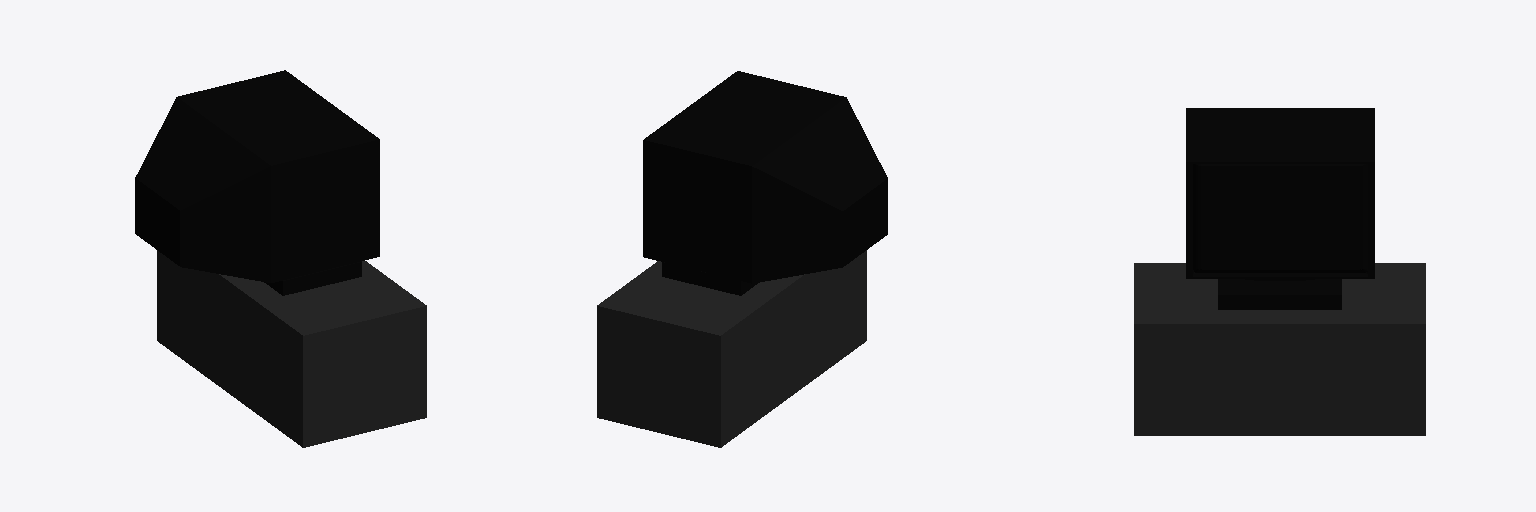
Rendered from Computer.obj.
The picture shows the model from 3 angles: view 1: azimuth 30°, elevation 25°; view 2: azimuth 150°, elevation 25°; view 3: azimuth 270°, elevation 25°; orthographic projection.
Visible parts, largest first — view 1: Monitor, PC; view 2: Monitor, PC; view 3: PC, Monitor.
Part boxes in pixels (x1,y1,x2,y2): Monitor: (135, 70, 379, 295); PC: (157, 250, 426, 447); Monitor: (643, 71, 887, 295); PC: (597, 250, 866, 447); PC: (1134, 263, 1425, 435); Monitor: (1186, 108, 1374, 309).
Size of the model in its own units: 1.54 by 1.99 by 2.